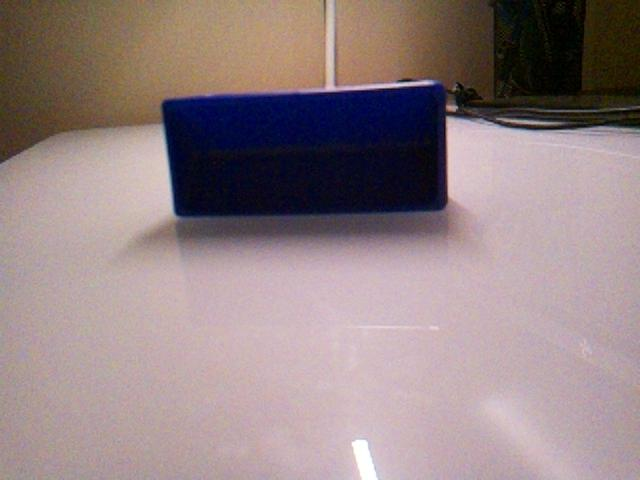blue: (160, 78, 450, 218)
